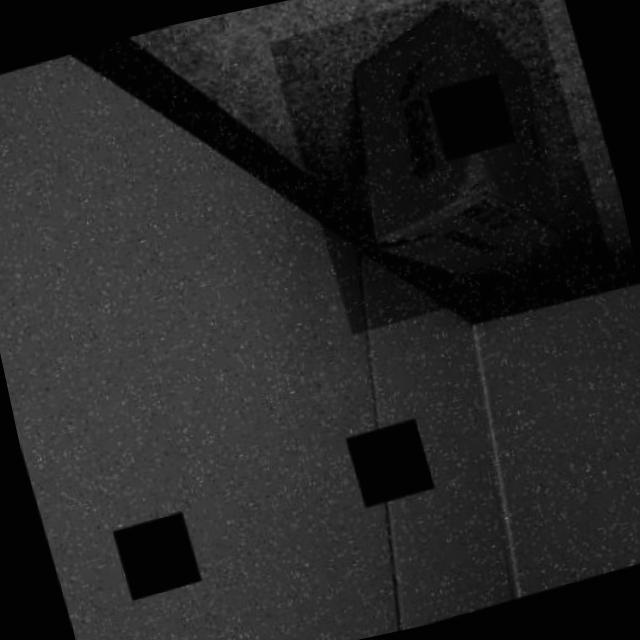box: (264, 0, 615, 339)
